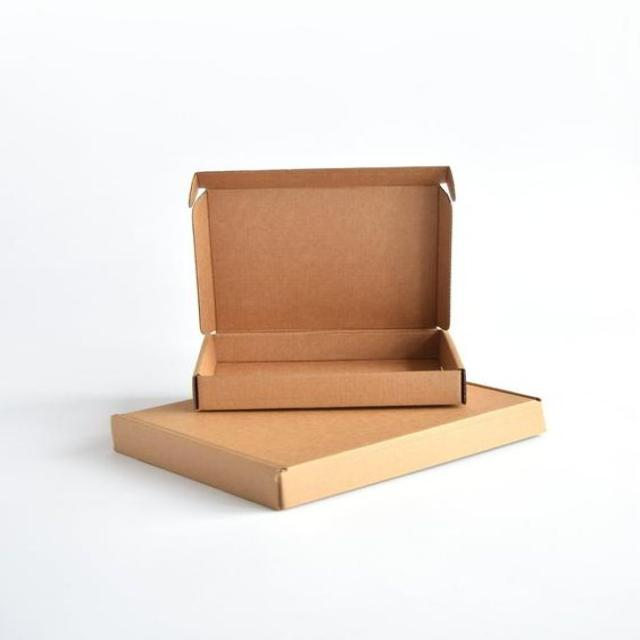Kardus kondisi bagus: (114, 361, 546, 514)
